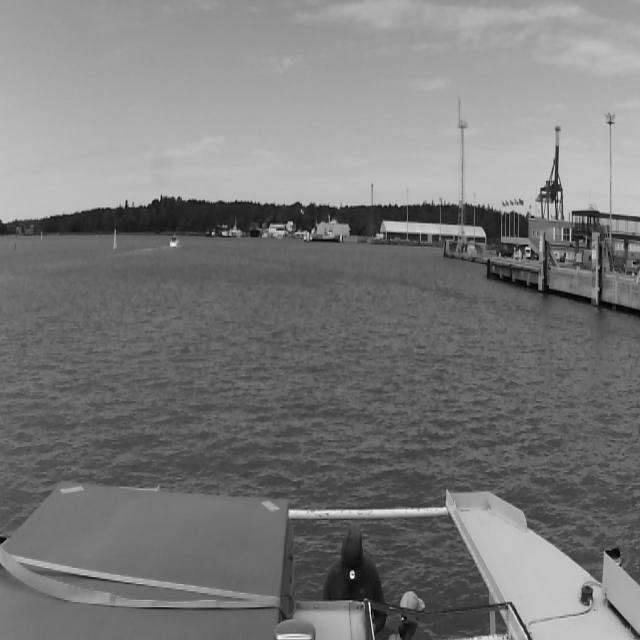buoy: (109, 225, 117, 253)
ship: (170, 236, 176, 248)
